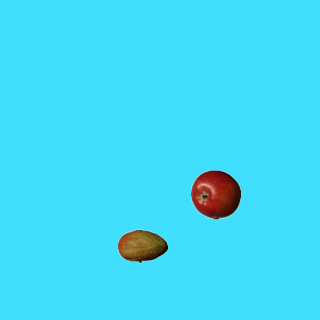Apple Braeburn: (190, 169, 240, 219)
Papaya: (117, 221, 167, 271)
